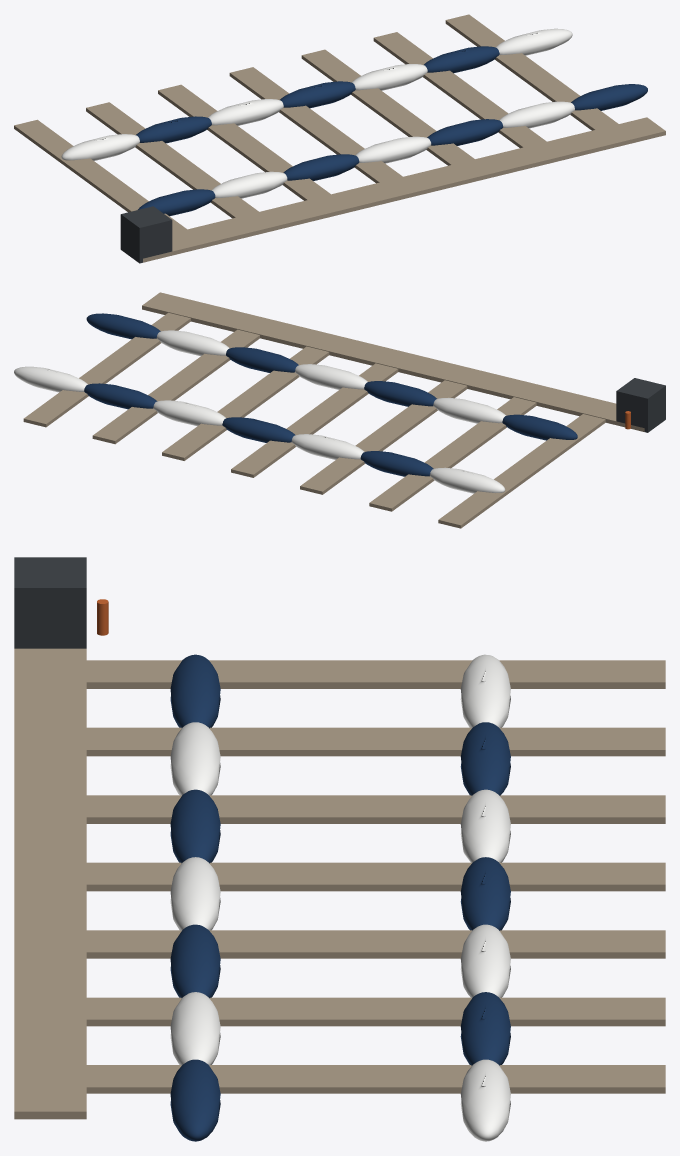
The model's file is b08-marina-pontoon-cluster.glb.
3 renders of one model, top to bottom at view 1: azimuth 30°, elevation 25°; view 2: azimuth 150°, elevation 25°; view 3: azimuth 270°, elevation 25°, orthographic. The views are drawn at different scales.
Visible parts, largest first — view 1: part0, part10, part16, part19, part4, part13, part7, part1, part22, part3, part20, part21 (+11 smaller); view 2: part0, part1, part16, part13, part19, part10, part7, part4, part22, part2, part3, part21 (+11 smaller); view 3: part0, part16, part4, part10, part1, part7, part13, part19, part22, part20, part21, part5 (+11 smaller).
Part boxes in pixels (box(x1,y1,x2,y2)): part0: box(143, 117, 665, 262); part10: box(229, 67, 402, 183); part16: box(373, 32, 546, 148); part19: box(445, 14, 618, 130); part4: box(86, 102, 258, 218); part13: box(301, 49, 474, 165); part7: box(158, 84, 330, 200); part1: box(14, 119, 186, 232); part22: box(120, 206, 172, 263); part3: box(61, 134, 139, 160); part20: box(571, 84, 647, 110); part21: box(495, 28, 572, 55); part0: box(142, 292, 644, 431); part1: box(438, 414, 605, 528); part16: box(92, 329, 259, 444); part13: box(162, 346, 329, 460); part19: box(23, 312, 190, 427); part10: box(231, 363, 398, 477); part7: box(300, 380, 467, 494); part4: box(369, 397, 536, 511); part22: box(616, 378, 665, 432); part2: box(502, 414, 577, 440); part3: box(430, 467, 505, 493); part21: box(14, 366, 87, 392); part0: box(14, 648, 86, 1119); part16: box(86, 997, 665, 1026); part4: box(86, 727, 665, 756); part10: box(86, 862, 665, 891); part1: box(86, 660, 665, 688); part7: box(86, 795, 665, 823); part13: box(86, 930, 665, 958); part19: box(86, 1065, 665, 1093); part22: box(14, 557, 86, 648); part20: box(170, 1059, 220, 1141); part21: box(460, 1059, 510, 1141); part5: box(170, 722, 220, 795).
Size of the model in its own units: 42450 by 2950 by 22450.
